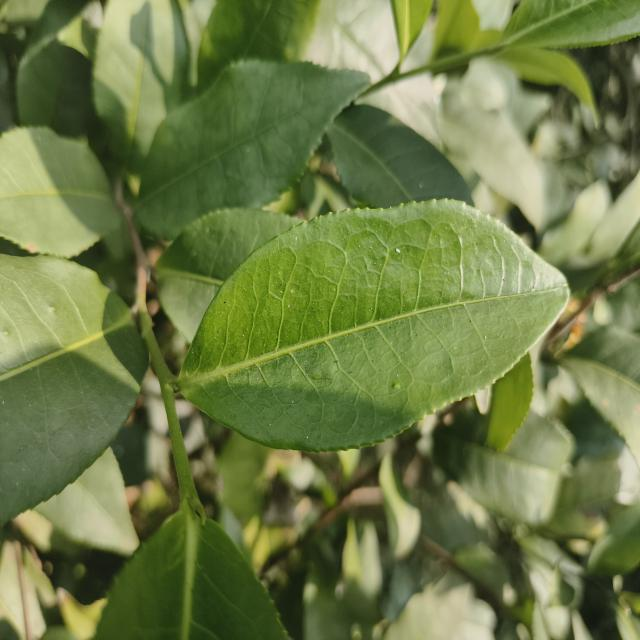Leaf: (178, 200, 568, 451), (136, 60, 369, 239), (0, 256, 149, 524), (94, 507, 288, 640), (156, 208, 300, 342), (93, 0, 190, 174), (0, 127, 120, 258), (434, 413, 573, 526), (328, 105, 473, 208), (440, 81, 543, 226), (559, 325, 640, 463), (35, 448, 139, 555), (17, 0, 95, 137), (198, 0, 319, 88), (495, 47, 599, 124), (501, 0, 640, 48), (486, 353, 533, 451), (588, 504, 640, 576), (391, 0, 433, 67), (432, 0, 479, 59)
